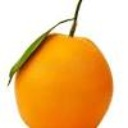orange: (10, 17, 115, 128)
